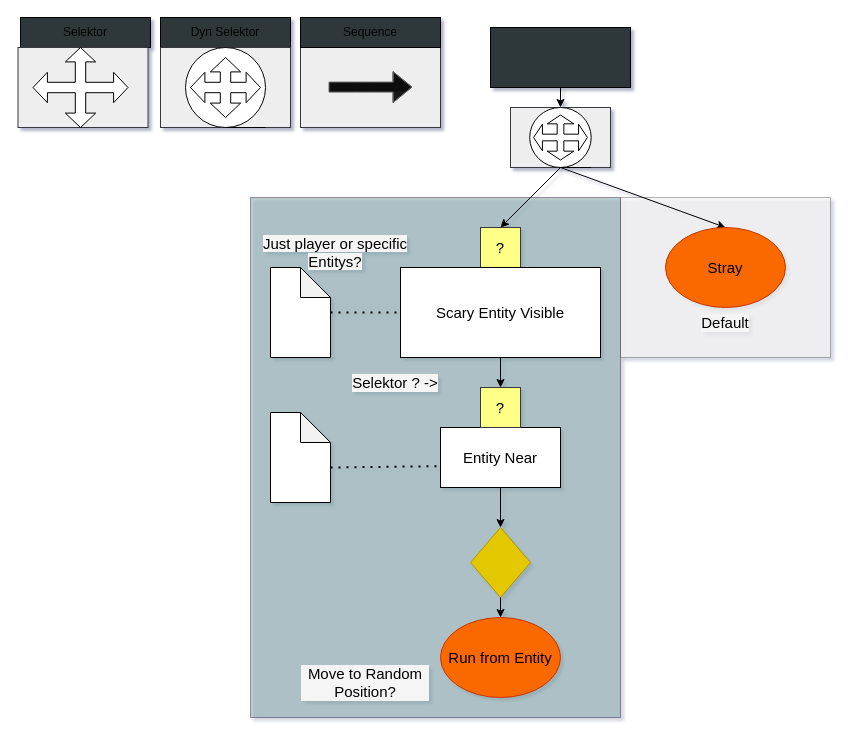
The diagram is 854 pixels wide and 741 high, and some of its shapes have lost their labels. Here are the shapes that lost their labels. From the top down, the box of each, then its label:
(490, 26, 630, 88): Timid (Rabbit)
(270, 266, 330, 358): Confi (Entitys)
(270, 412, 330, 502): Confi (Range)
(470, 526, 530, 598): Repeat
